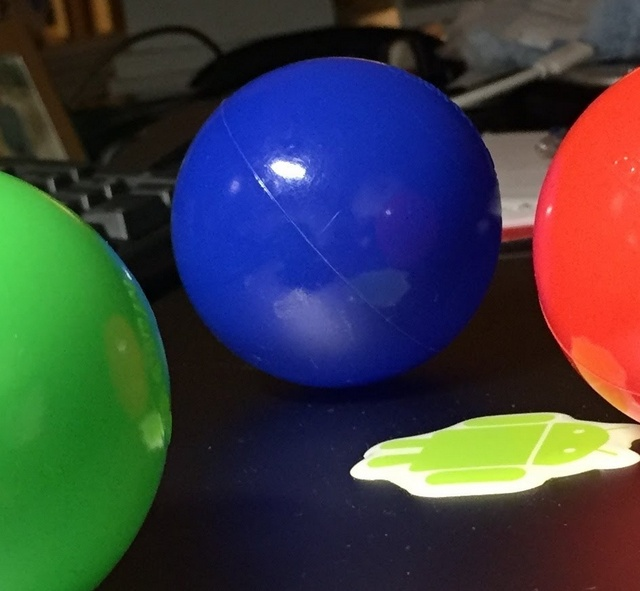Ball: (167, 58, 502, 388)
